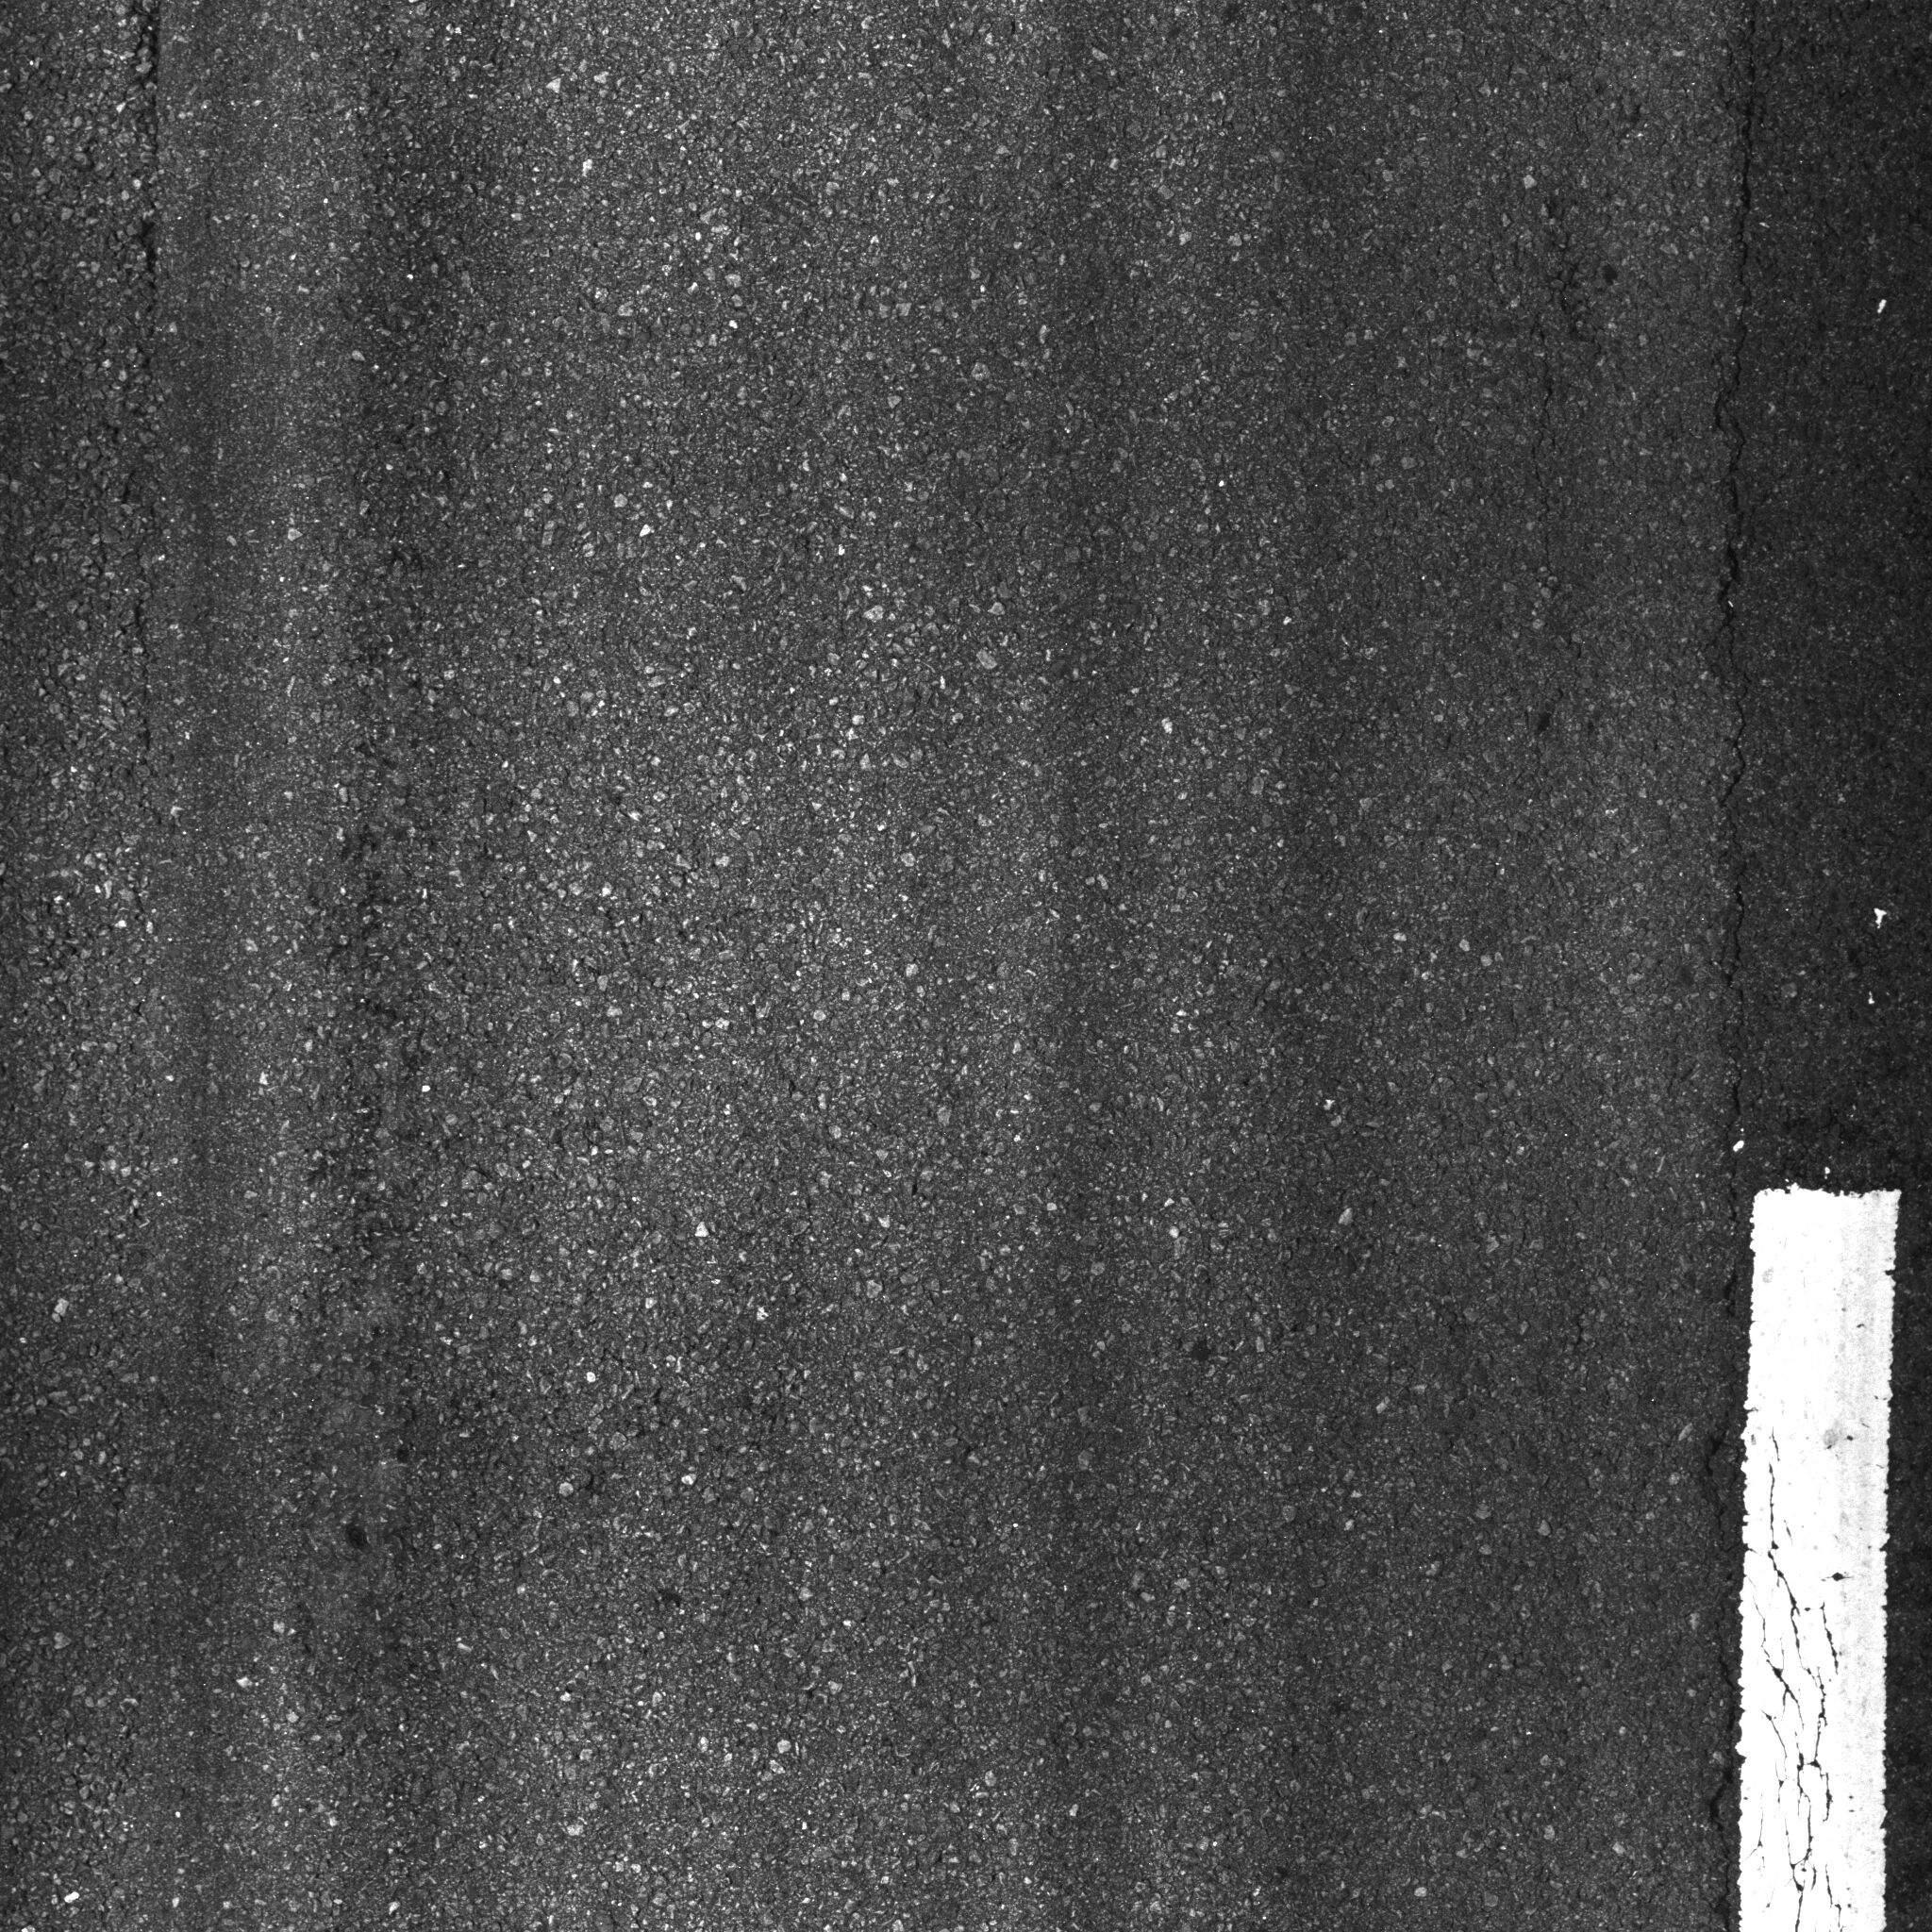longitudinal: (1704, 14, 1863, 1932), (87, 2, 237, 1077)
